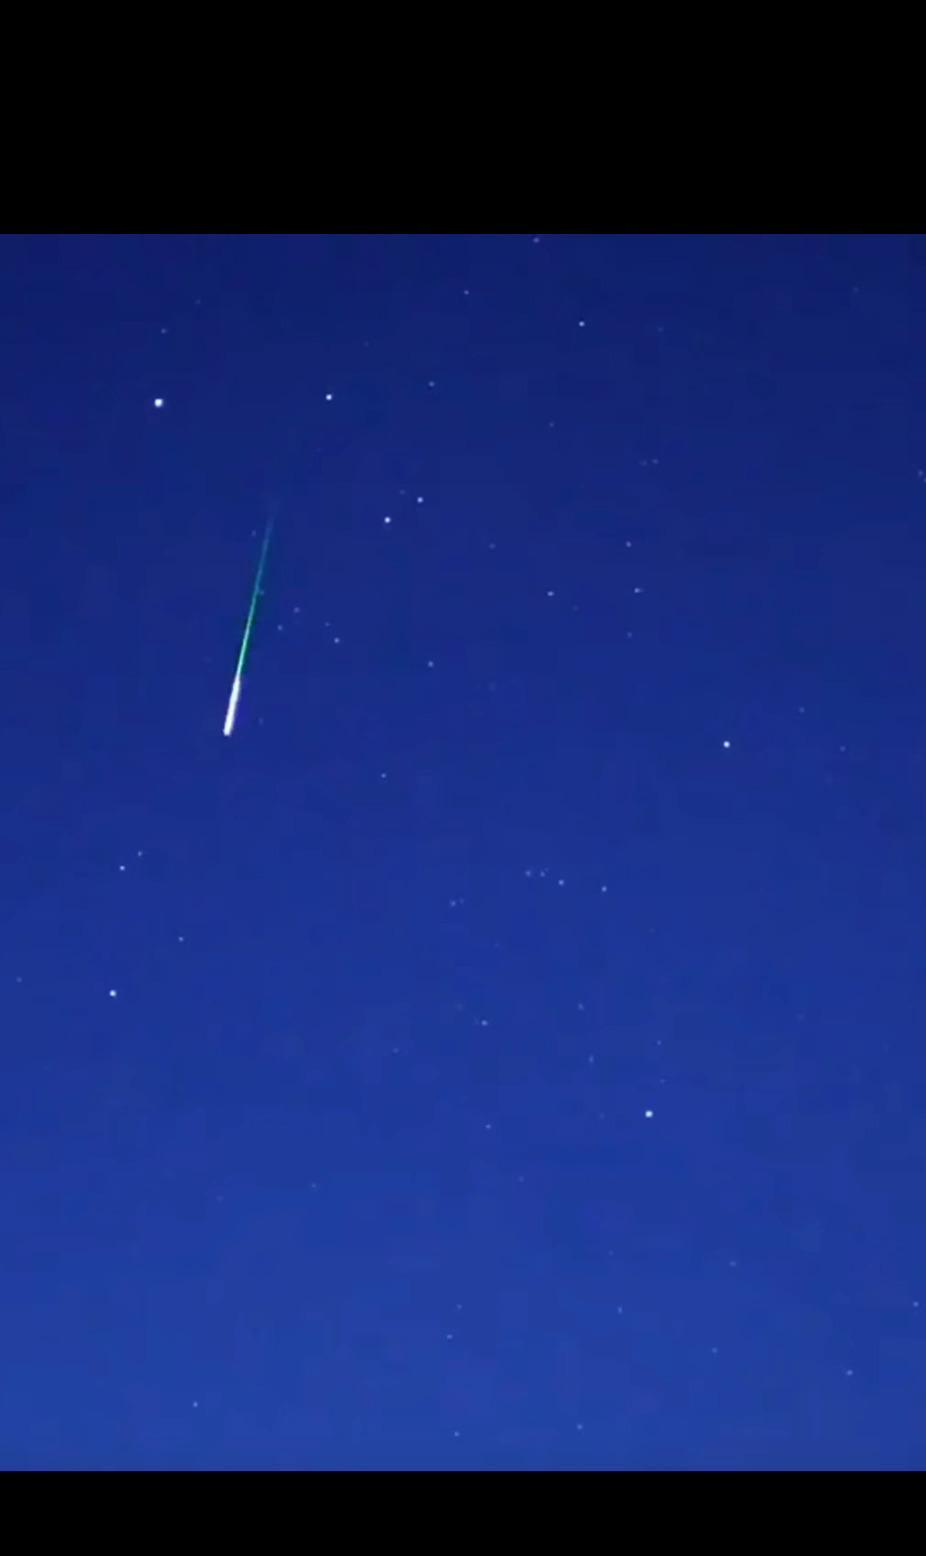meteorite: (192, 487, 322, 761)
